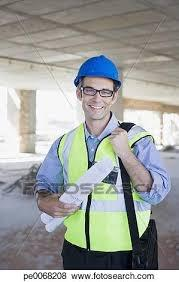Helmet: (74, 55, 120, 117)
Vest: (45, 121, 152, 246)
